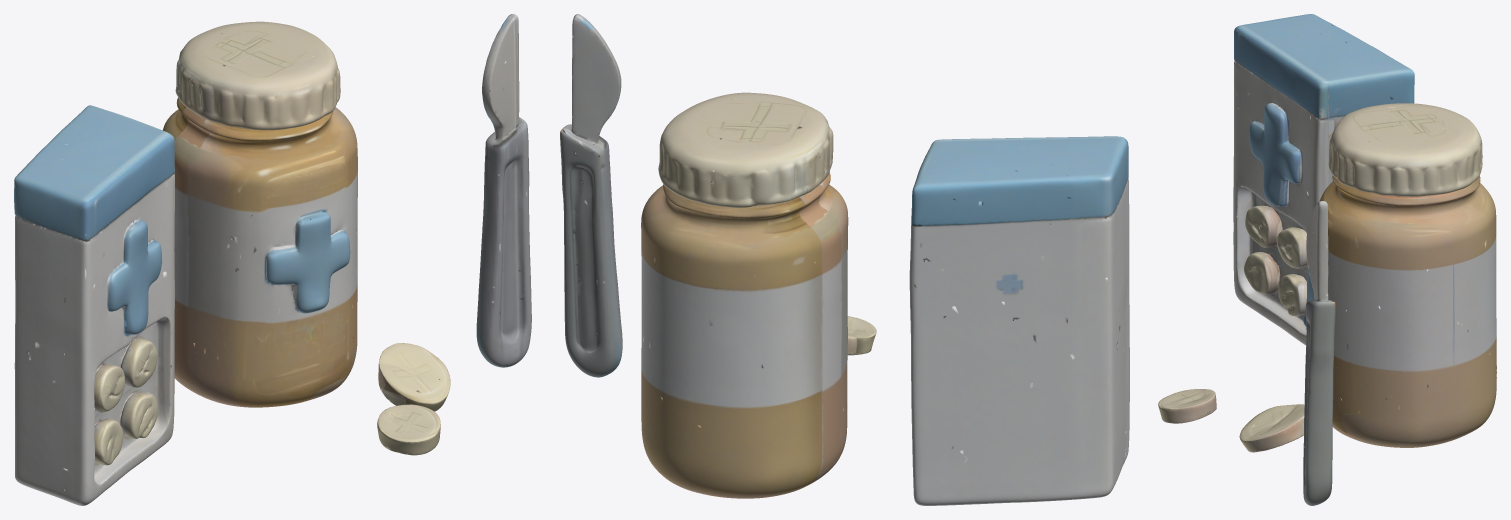
The model's file is Treatment.glb.
3 renders of one model, left to right at view 1: azimuth 30°, elevation 25°; view 2: azimuth 150°, elevation 25°; view 3: azimuth 270°, elevation 25°, orthographic. The views are drawn at different scales.
Bounding box in the file's own units: 2 × 1.29 × 1.27.
1 material, 1 textured.
